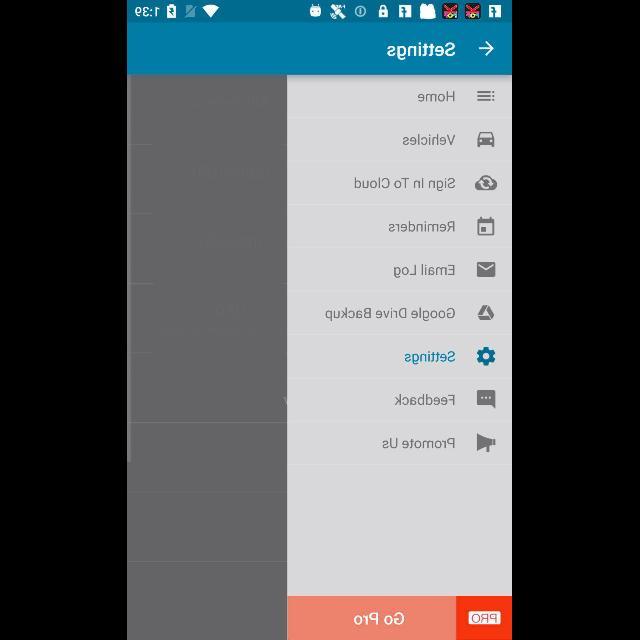icon: (476, 346, 496, 366), (478, 390, 497, 410), (476, 175, 498, 191), (478, 217, 496, 236), (478, 262, 497, 278), (479, 40, 495, 56), (478, 91, 496, 101)
image: (478, 433, 497, 452), (478, 132, 496, 148), (478, 305, 496, 321)
panel: (288, 75, 512, 640)
text: (326, 307, 456, 321), (355, 177, 455, 191), (388, 41, 457, 60), (394, 264, 456, 278), (388, 220, 456, 232), (394, 394, 456, 406), (382, 438, 456, 448), (406, 351, 456, 365), (404, 134, 456, 146), (418, 91, 456, 102)
textbutton: (288, 596, 512, 640)
toolbar: (128, 23, 512, 75)
uppertaskbar: (128, 1, 512, 23)
